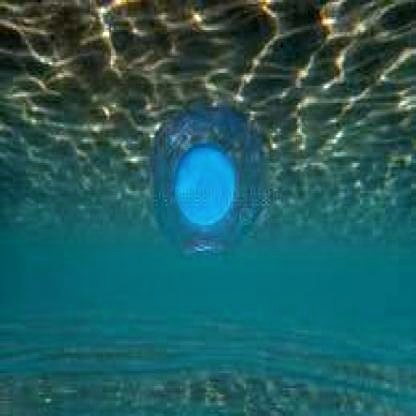pbottle: (138, 96, 276, 266)
